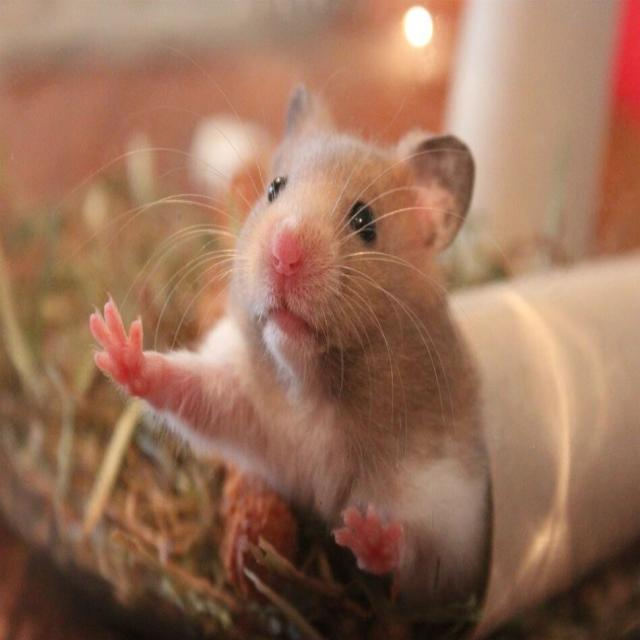hamster: (153, 108, 494, 578)
